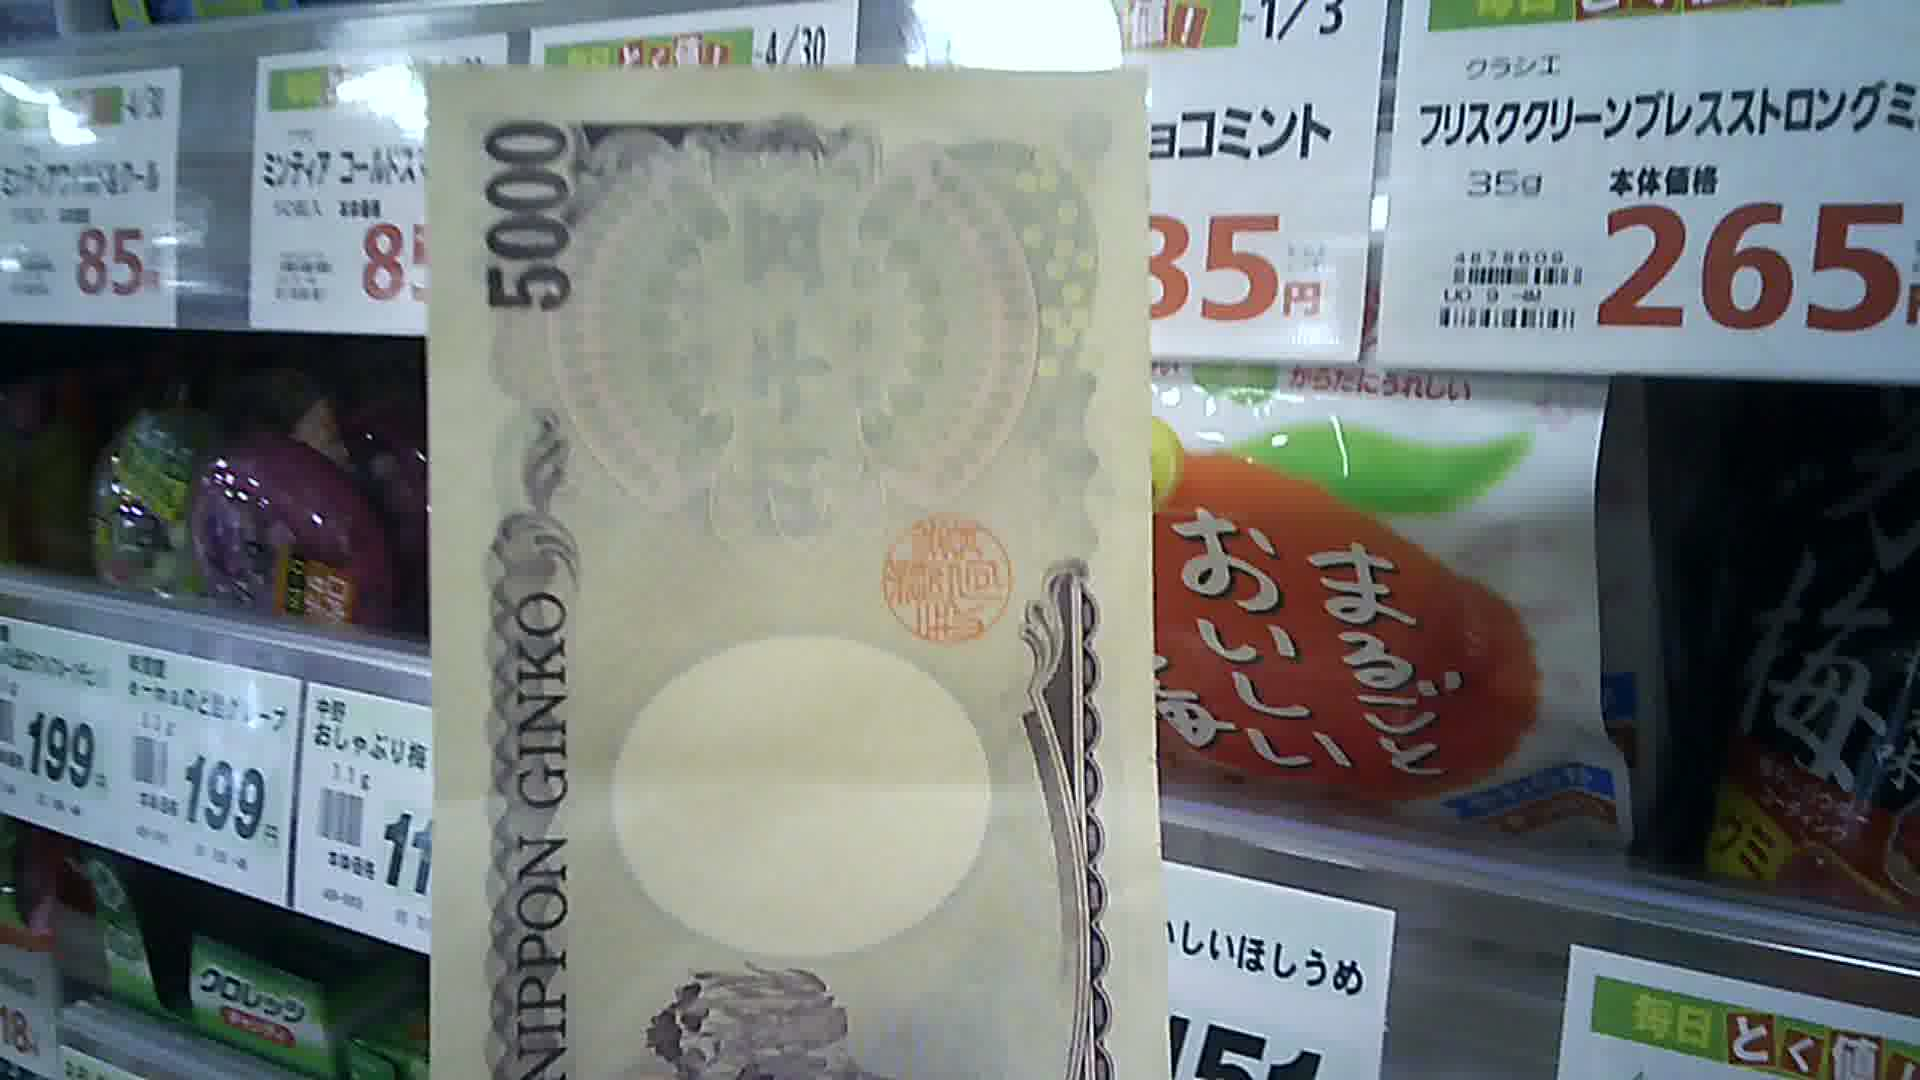5,000 Yen: (419, 59, 1170, 1079)
